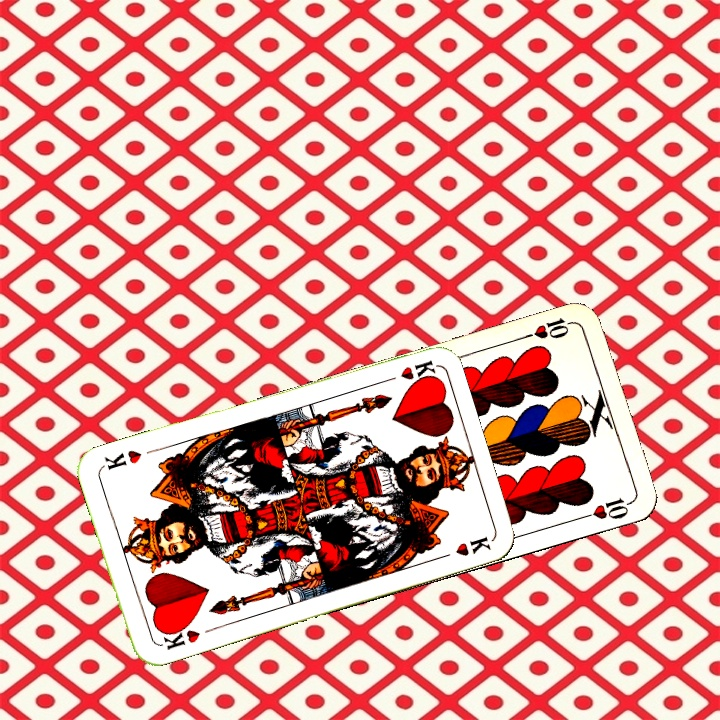H10: (520, 313, 578, 342)
HK: (377, 356, 437, 386), (157, 619, 203, 653)
